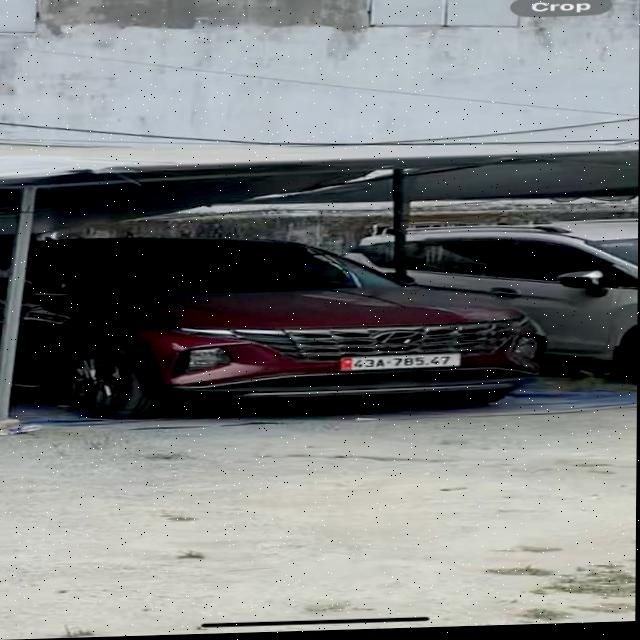car: (8, 216, 547, 430), (347, 217, 638, 383)
plate: (324, 341, 475, 382)
